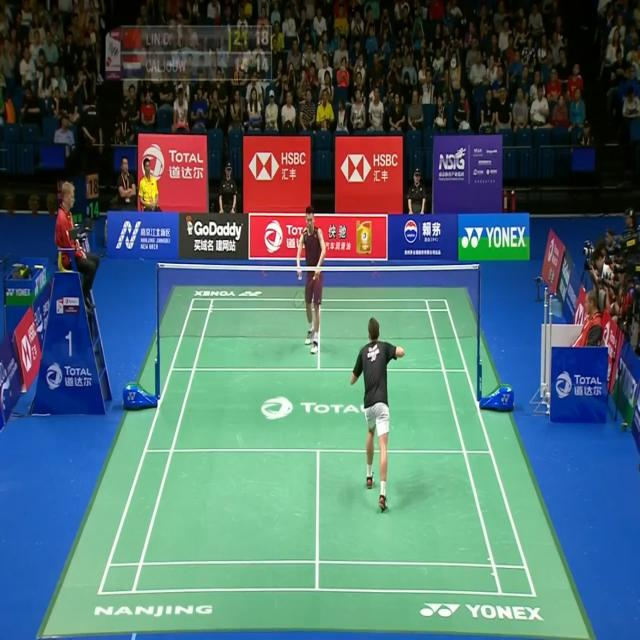Player1: (348, 313, 406, 514)
Player2: (290, 196, 328, 358)
